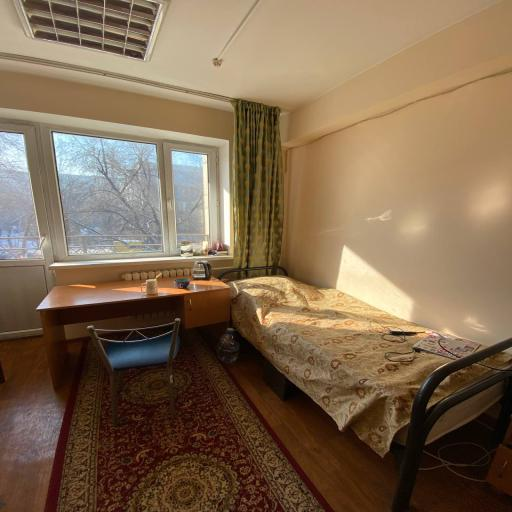bus: (87, 319, 180, 426)
person: (230, 276, 511, 463)
stroller: (37, 278, 229, 388)
